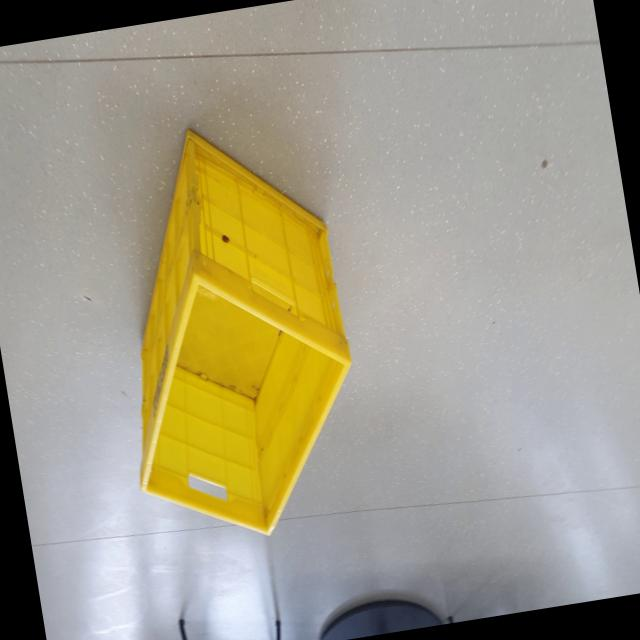box: (79, 104, 384, 566)
